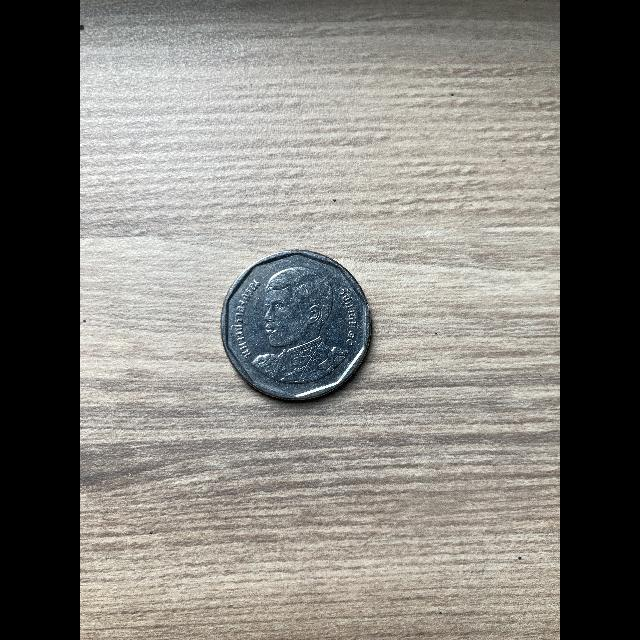5 Bath: (220, 244, 378, 409)
